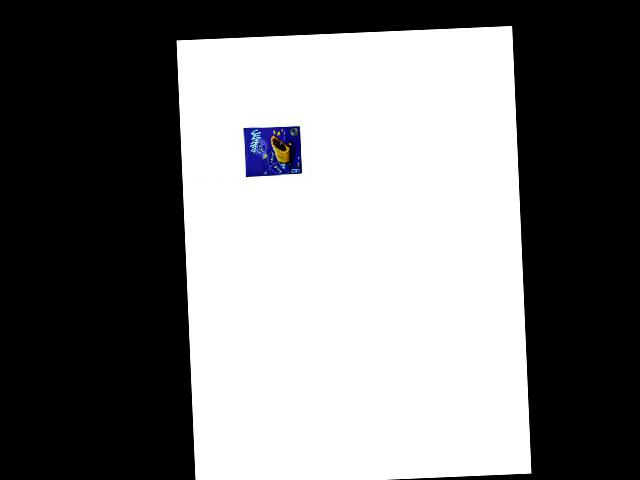chocolate: (240, 122, 306, 179)
